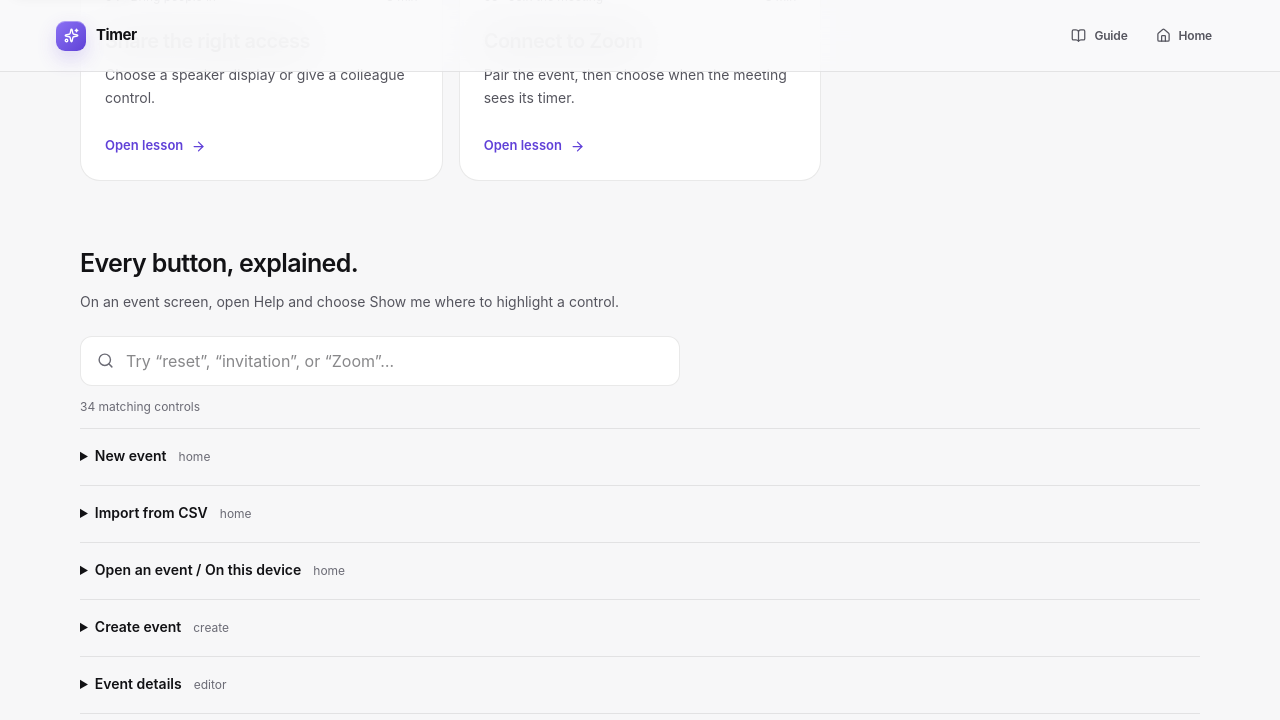
Timer learning area › searches button behavior and provides direct lesson links
(page scrolled)
Type "invitation" into the search field.
click(394, 361); type("invitation")  # box left=126, top=337, right=663, bottom=385
(page scrolled)
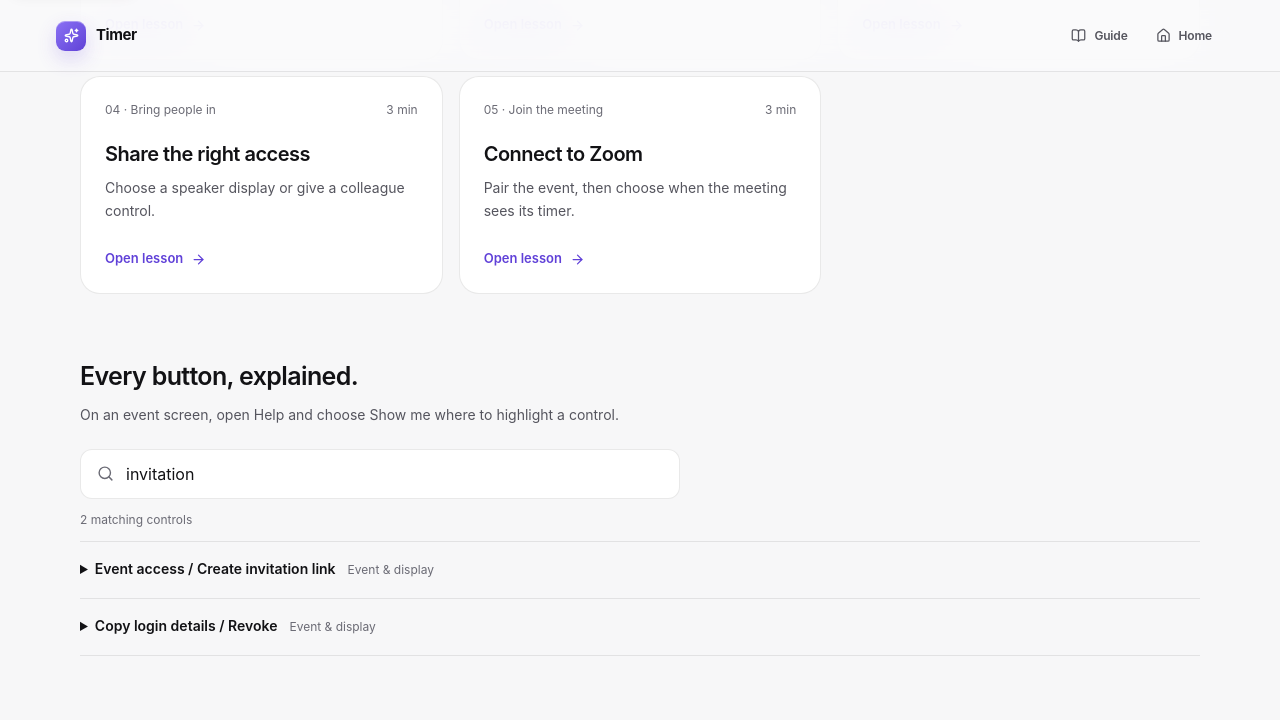
Expected: the heading "Event access / Create invitation link" is shown, left=95, top=560, right=434, bottom=577
Replace the text in the search field with "does-not-exist" at (394, 474), box left=126, top=450, right=663, bottom=498
(page scrolled)
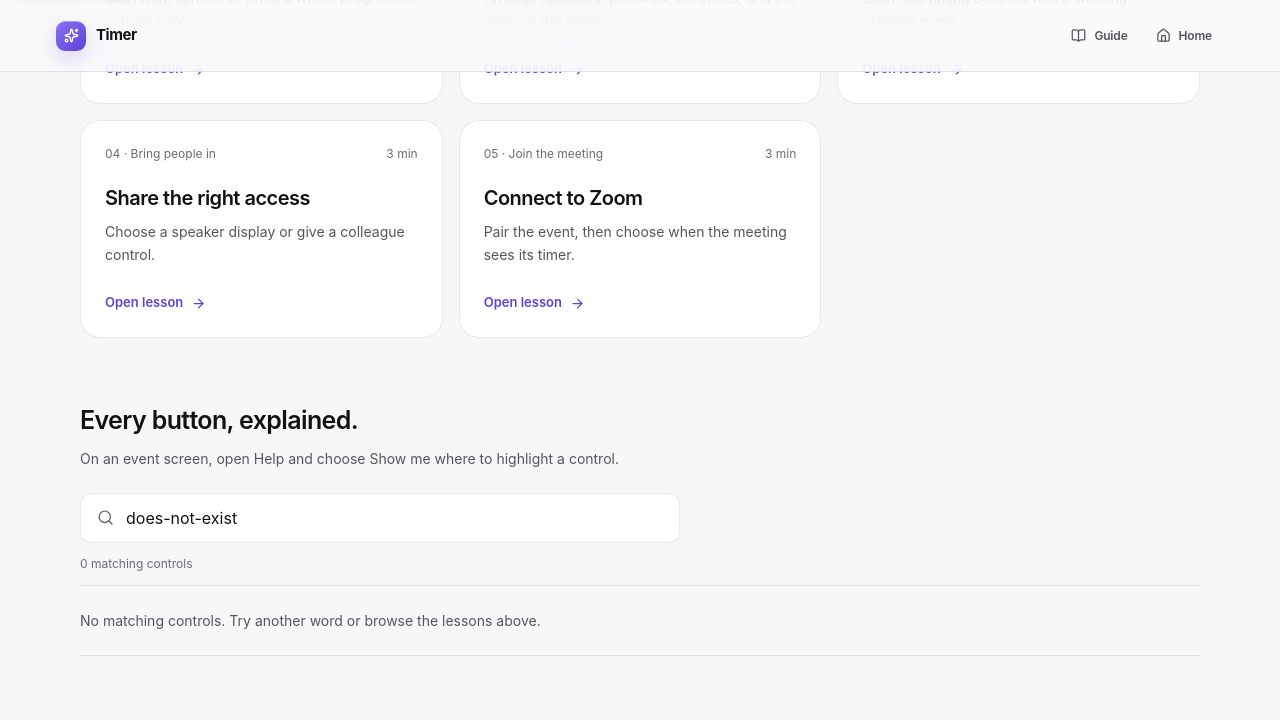
Result: the text "No matching controls" is shown at left=80, top=612, right=541, bottom=629
